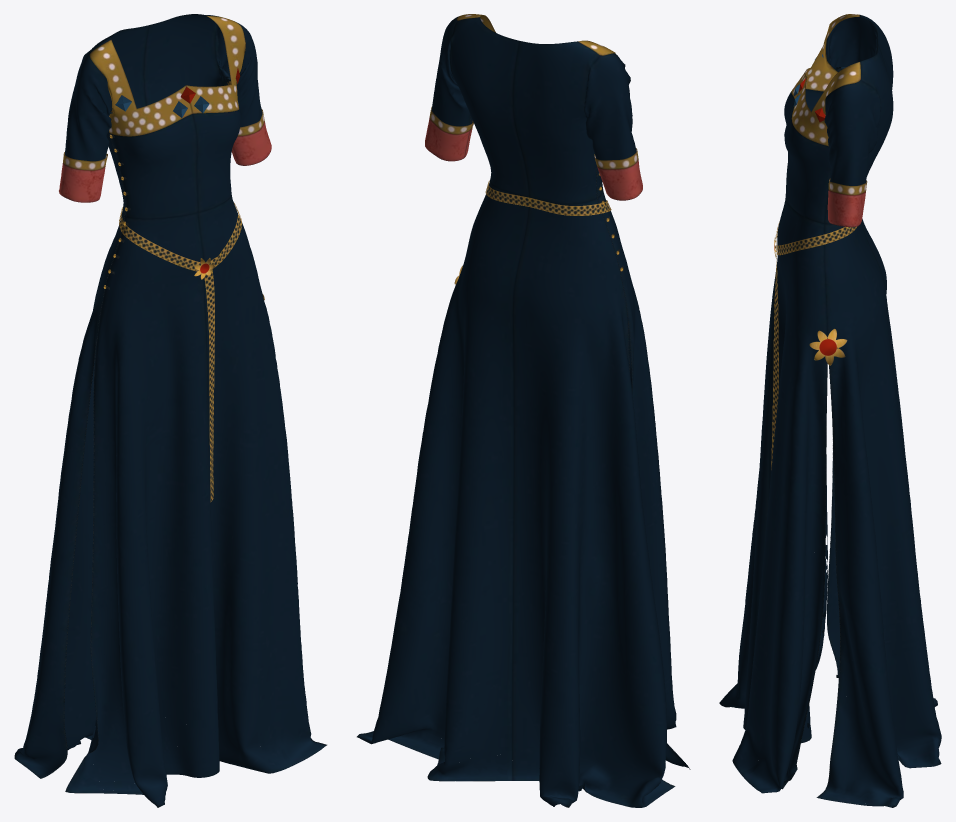
Rendered from gown-navy-court.glb.
3 renders of one model, left to right at view 1: azimuth 30°, elevation 25°; view 2: azimuth 150°, elevation 25°; view 3: azimuth 270°, elevation 25°, orthographic. The views are drawn at different scales.
Visible parts, largest first — view 1: defaultMaterial (×3); view 2: defaultMaterial (×2); view 3: defaultMaterial (×3).
Part boxes in pixels (x1=…): defaultMaterial (×3): x1=14, y1=14, x2=326, y2=807; defaultMaterial (×2): x1=357, y1=14, x2=690, y2=807; defaultMaterial (×3): x1=719, y1=14, x2=941, y2=807.
Bounding box in the file's own units: 255 × 614 × 177.
Materials: 1 (1 with a texture image).
